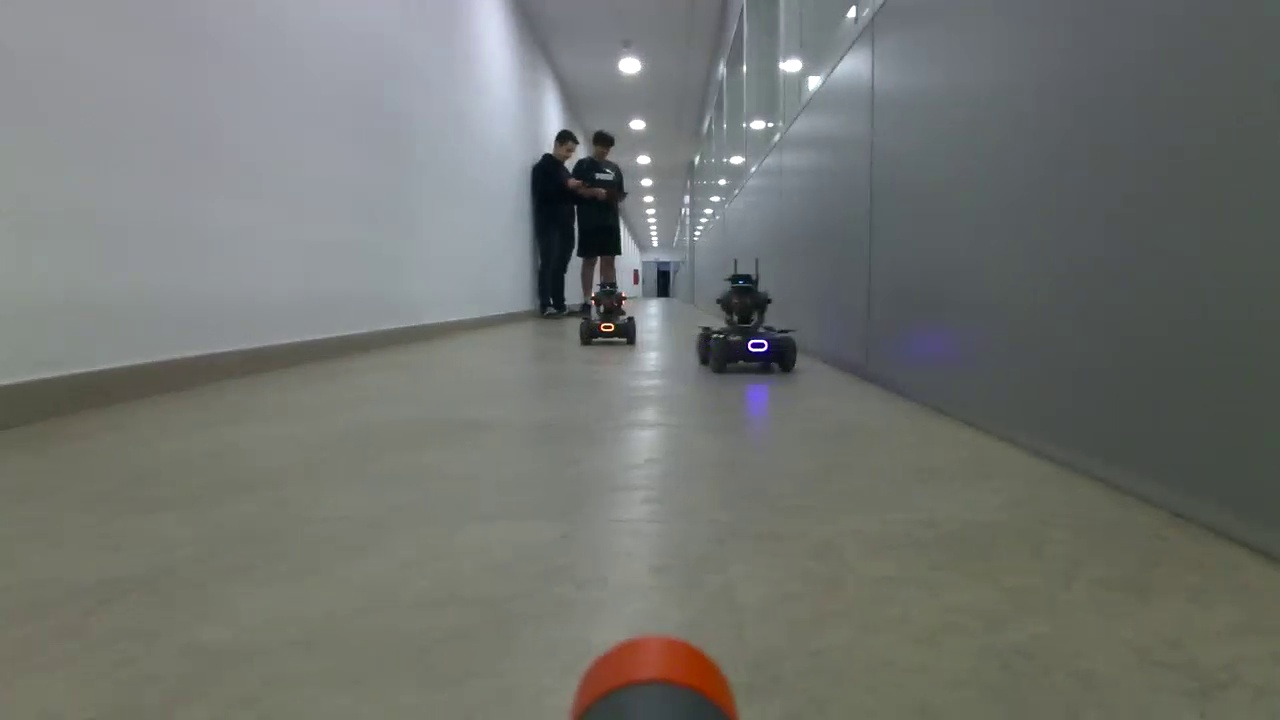robot: (697, 273, 797, 375), (579, 282, 637, 347)
